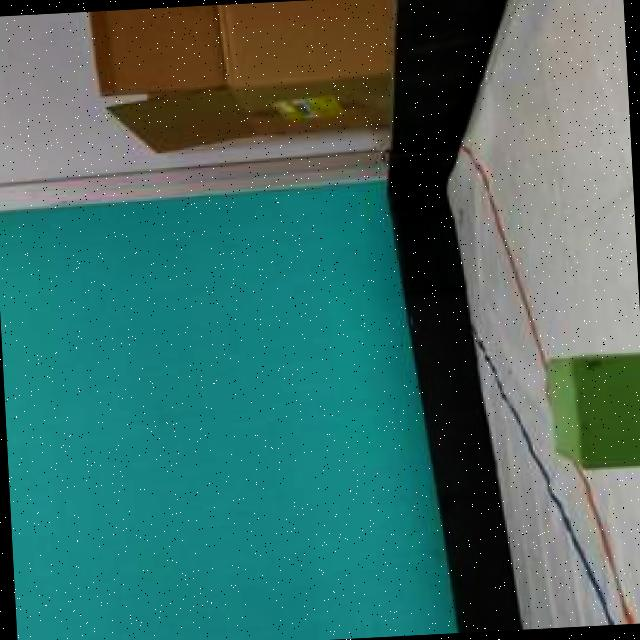greenbox: (541, 349, 640, 474)
